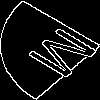M: (25, 25, 100, 88)
